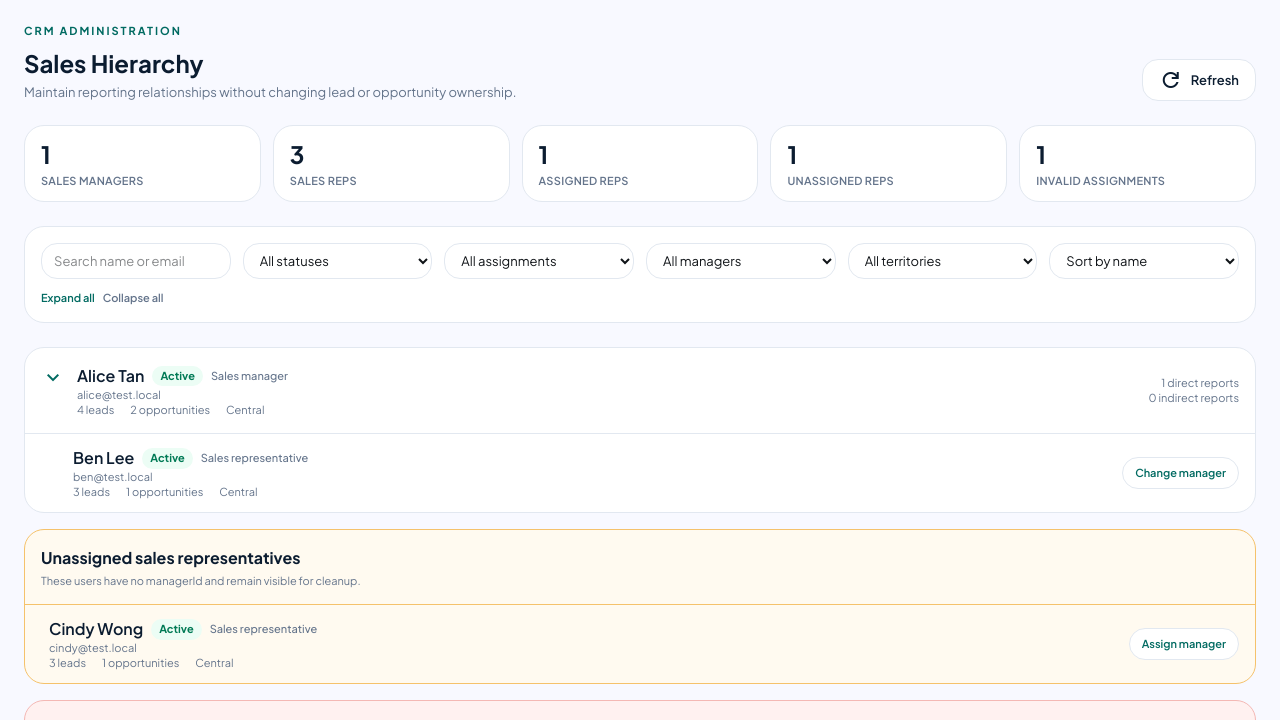
Test case: CrmSalesHierarchy › shows a failed reassignment without closing the modal
Click the button "Change manager" at (1181, 473), box [1122,457,1239,489]
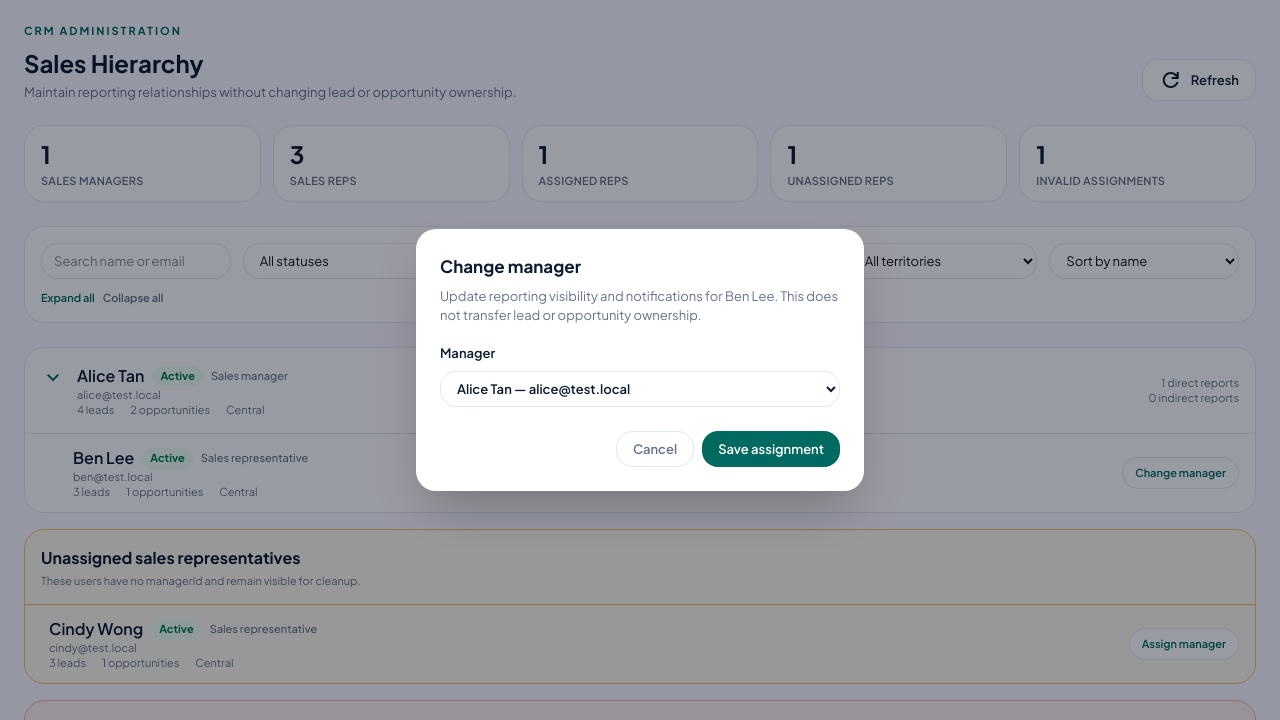
Click the button "Save assignment" at (771, 449), box [702,431,840,467]
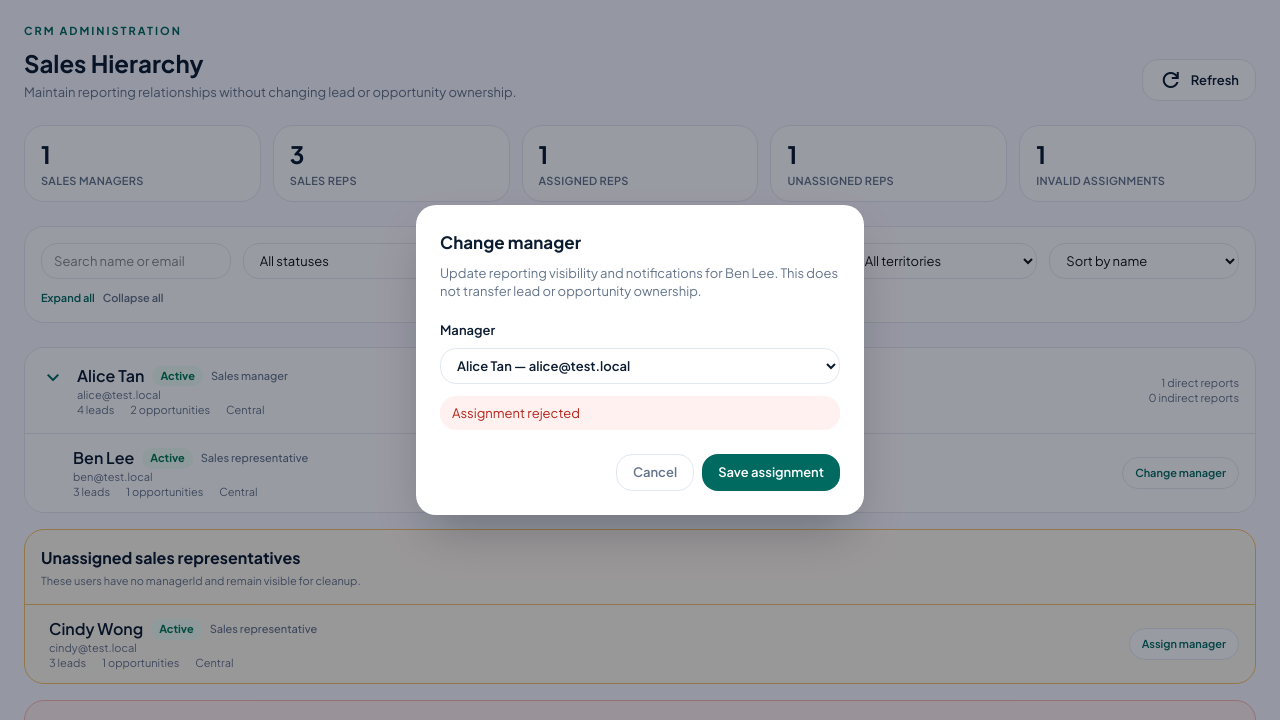
Result: the dialog is shown
Result: the message reads "Assignment rejected" at [452,404,580,420]
